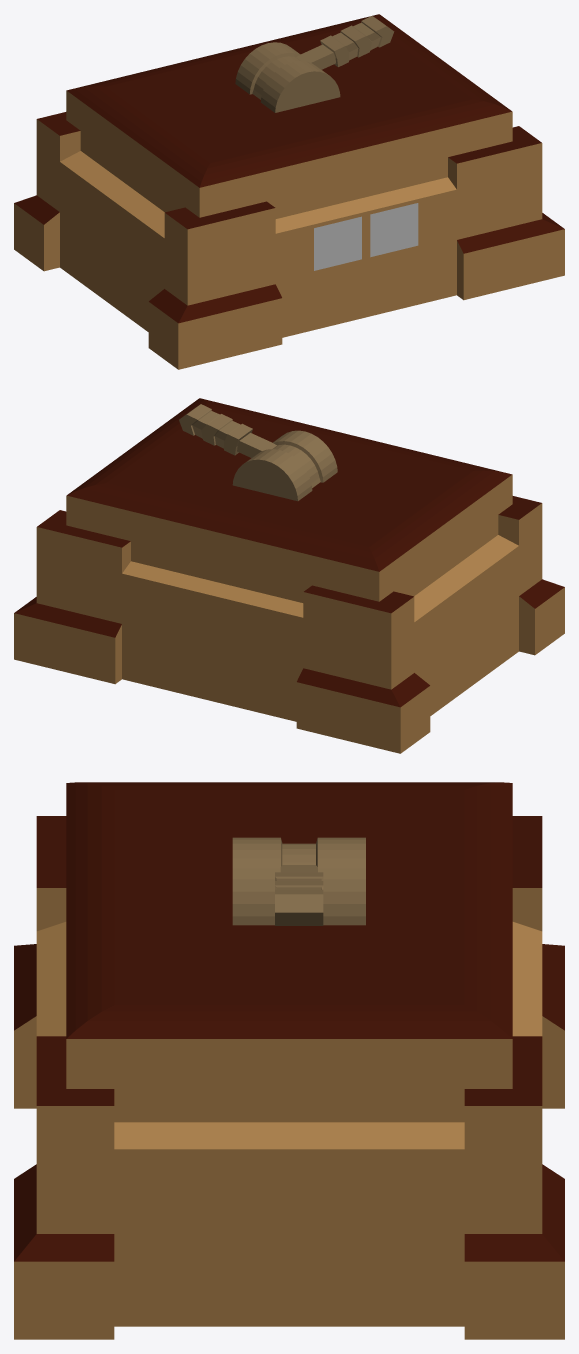
Rendered from LeverBuilding.fbx.
3 renders of one model, top to bottom at view 1: azimuth 30°, elevation 25°; view 2: azimuth 150°, elevation 25°; view 3: azimuth 270°, elevation 25°, orthographic. The views are drawn at different scales.
Visible parts, largest first — view 1: BASE, Lever, Handle; view 2: BASE, Lever, Handle; view 3: BASE, Lever, Handle.
Part boxes in pixels (x1,y1,x2,y2): BASE: [14, 14, 564, 369]; Lever: [235, 42, 340, 112]; Handle: [296, 16, 394, 69]; BASE: [14, 398, 564, 753]; Lever: [232, 430, 337, 501]; Handle: [179, 404, 276, 457]; BASE: [14, 782, 564, 1339]; Lever: [232, 837, 365, 925]; Handle: [275, 865, 323, 925].
Bounding box in the file's own units: 1178 × 631 × 868.
